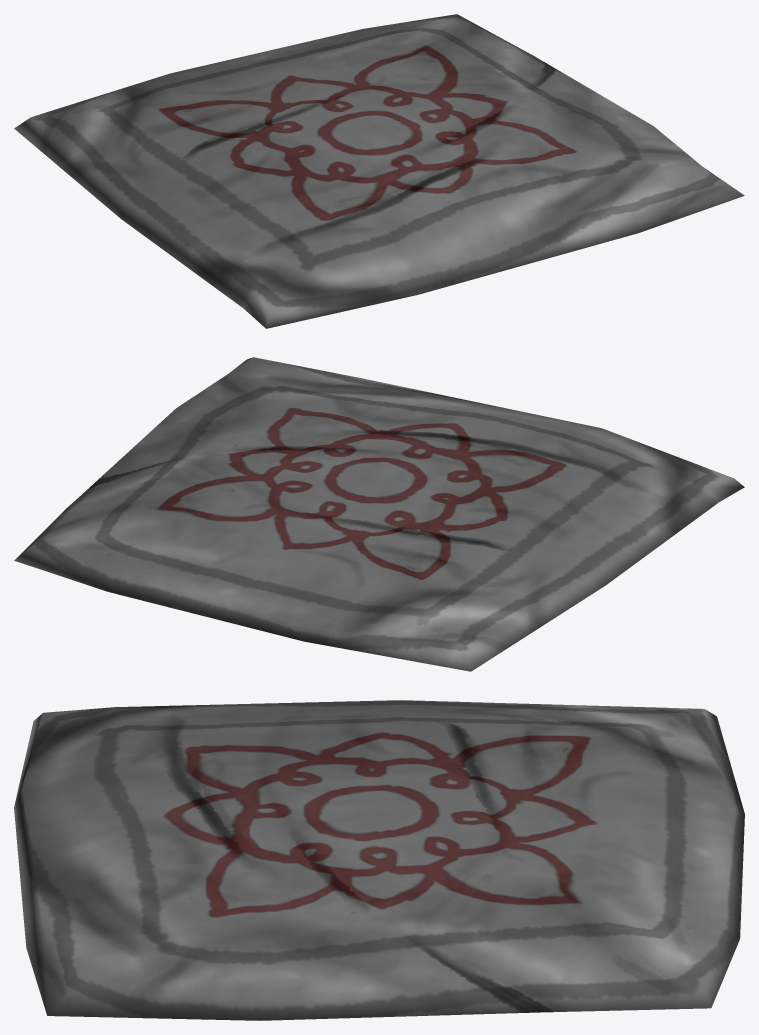
Rendered from PRP_Hassock.FBX.
3 renders of one model, top to bottom at view 1: azimuth 30°, elevation 25°; view 2: azimuth 150°, elevation 25°; view 3: azimuth 270°, elevation 25°, orthographic. The views are drawn at different scales.
Visible parts, largest first — view 1: PRP_Hassock; view 2: PRP_Hassock; view 3: PRP_Hassock.
Part boxes in pixels (bbox=[...]): PRP_Hassock: bbox=[14, 14, 744, 328]; PRP_Hassock: bbox=[14, 357, 744, 671]; PRP_Hassock: bbox=[14, 700, 744, 1020].
Bounding box in the file's own units: 64.49 × 6.43 × 63.8.
